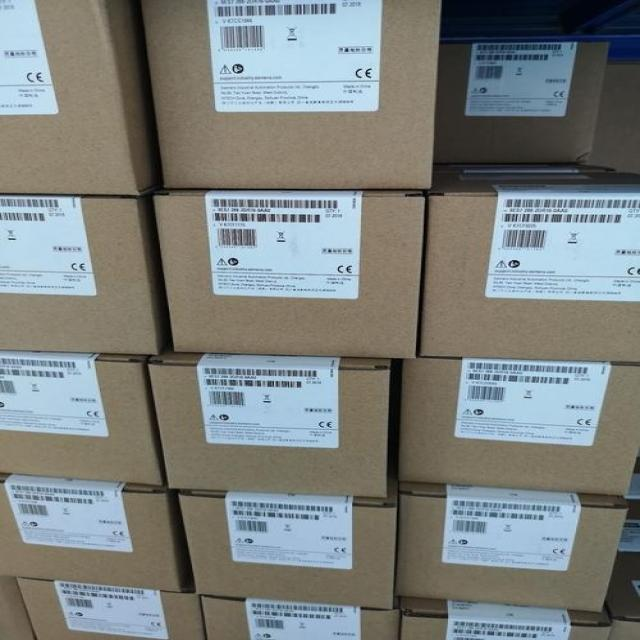box: (142, 0, 442, 189), (152, 189, 424, 359), (421, 172, 640, 363), (143, 352, 392, 498), (398, 359, 640, 497), (0, 1, 166, 196), (396, 483, 628, 613), (178, 478, 398, 609), (0, 194, 170, 355), (0, 473, 189, 592), (0, 350, 165, 486), (434, 40, 611, 164), (13, 575, 206, 640), (398, 597, 613, 640), (201, 595, 401, 640), (604, 551, 640, 640), (433, 163, 614, 175)
